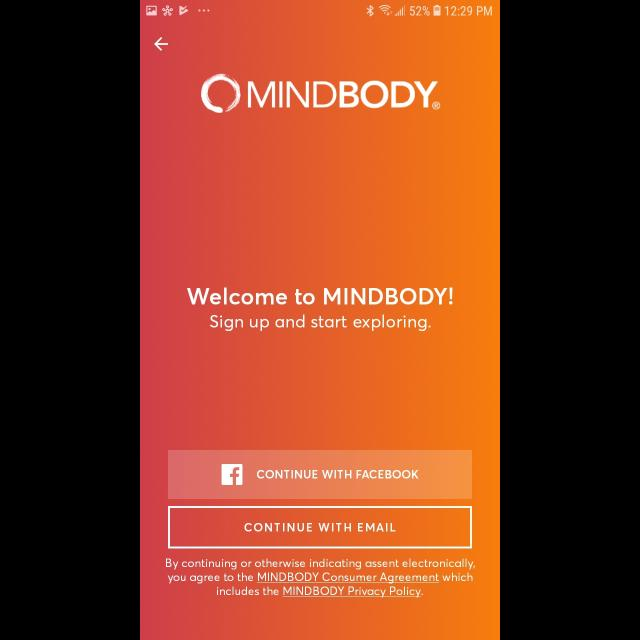icon: (154, 37, 170, 51)
image: (201, 74, 441, 114)
text: (166, 558, 474, 598), (187, 287, 453, 305), (210, 314, 430, 332)
textbutton: (168, 450, 472, 500), (168, 506, 472, 548)
uppertaskbar: (140, 1, 500, 17)
